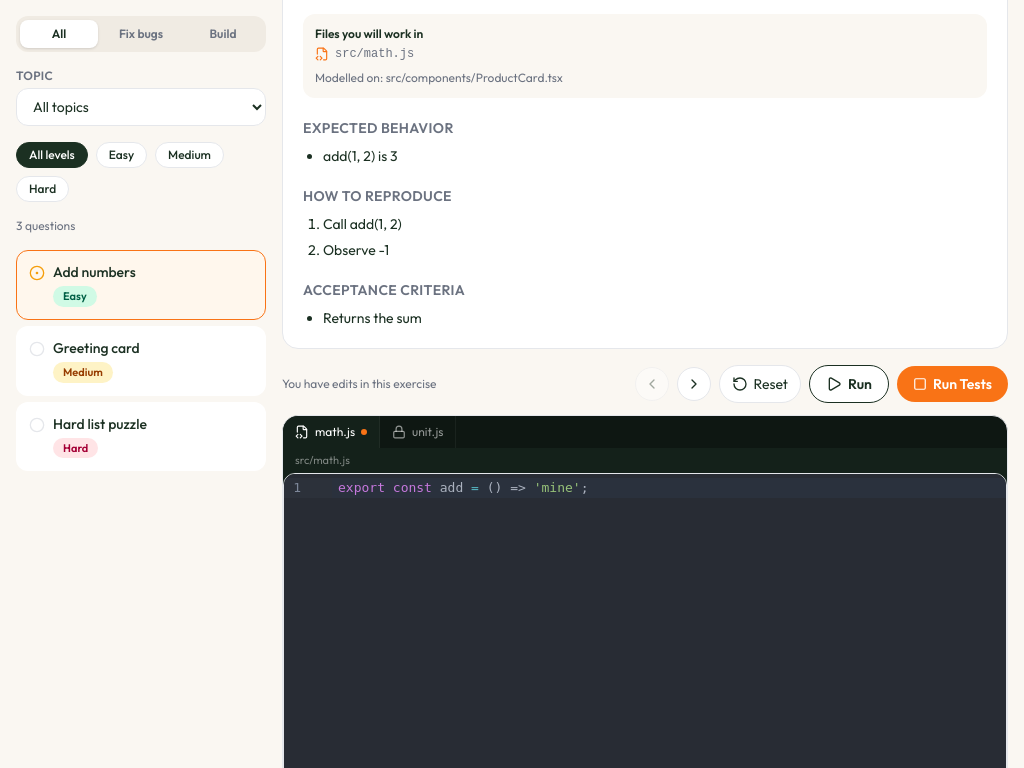
reset › asks for confirmation, can be cancelled, and restores the starter code
The image size is (1024, 768).
(page scrolled)
Expected: the text "You have edits in this exercise" is shown, [282,376,436,392]
Click the button "Reset" at (760, 384), box [718,365,801,403]
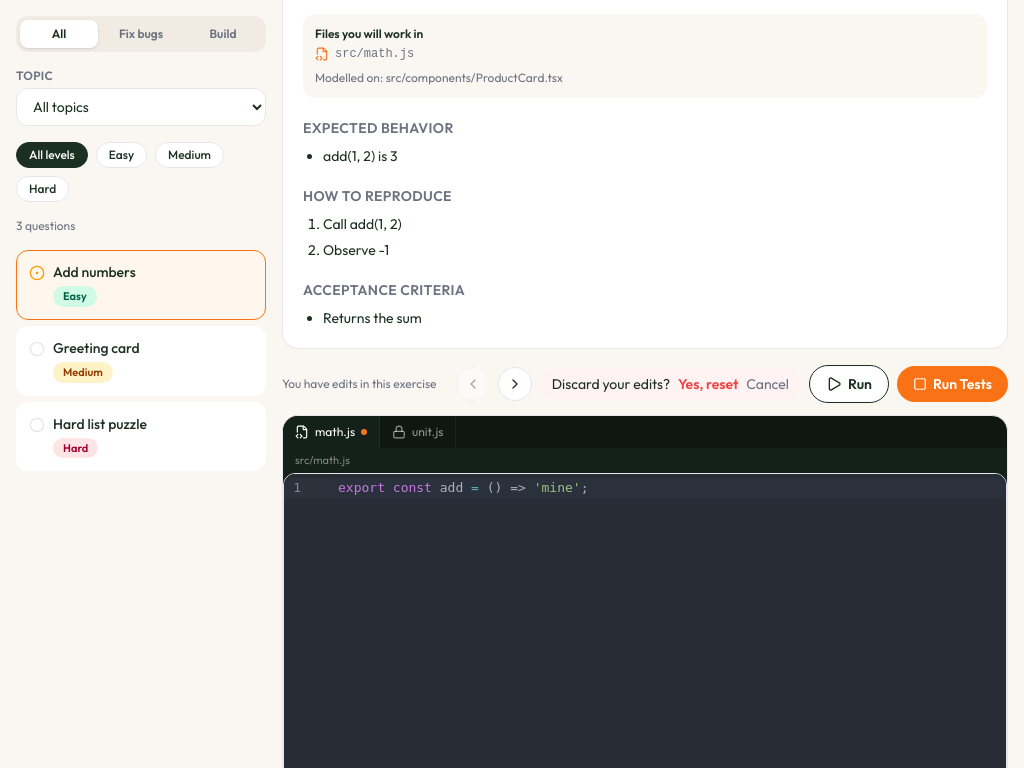
Click the button "Cancel" at (768, 384), box [746,374,789,394]
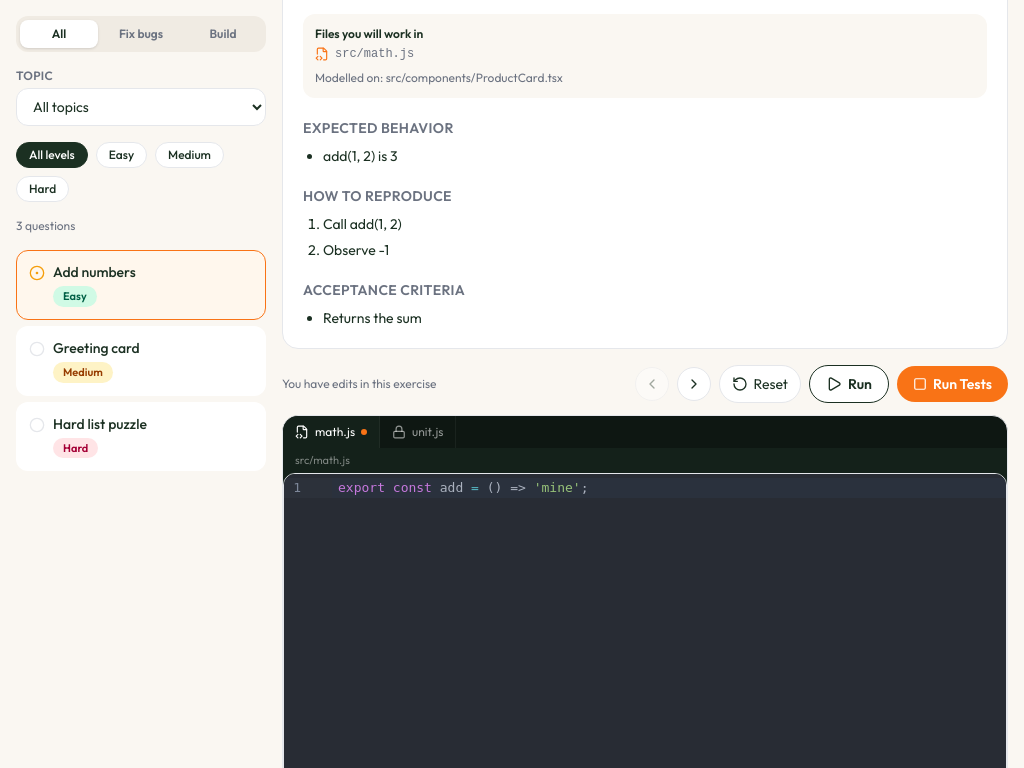
Expected: the text box labelled "export const add = () => 'mine';" is shown, [332,478,1006,498]
Click the button "Reset" at (760, 384), box [718,365,801,403]
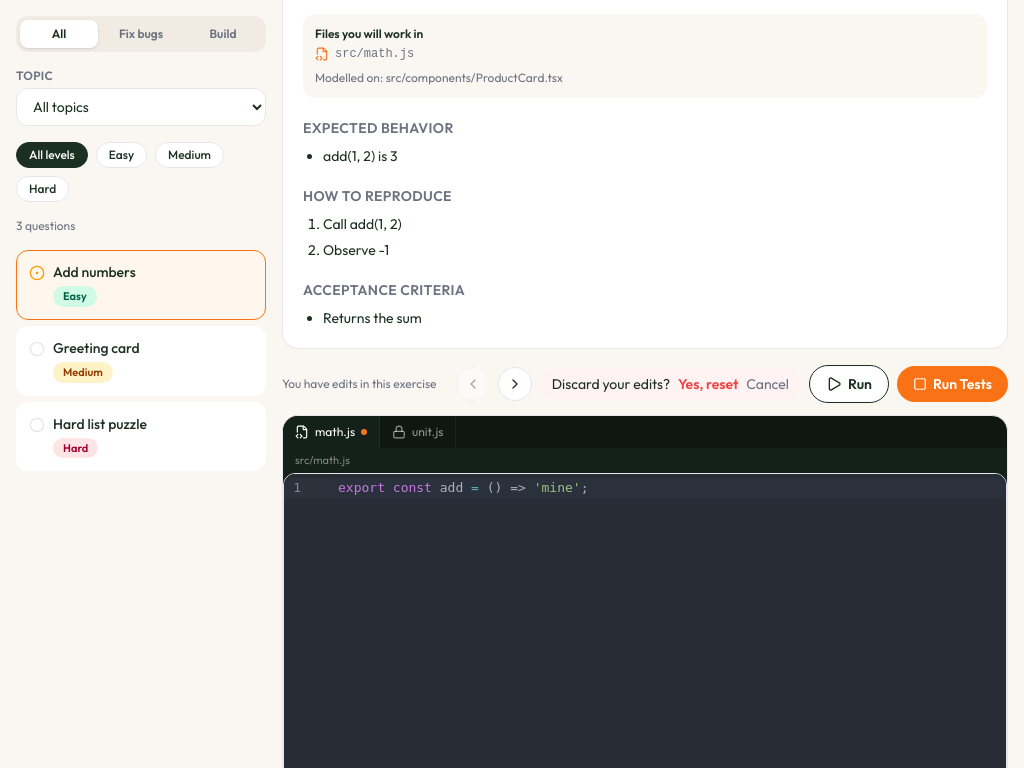
Click the button "Yes, reset" at (708, 384), box [678,374,738,394]
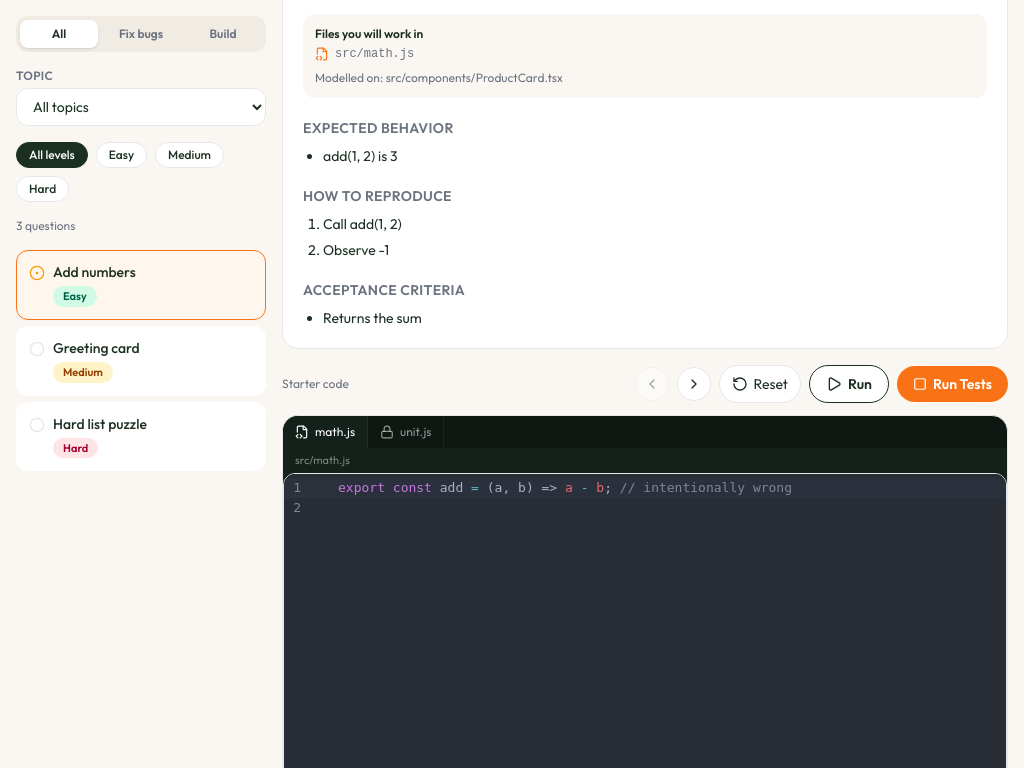
Expected: the text "Starter code" is shown, [282,376,349,392]
